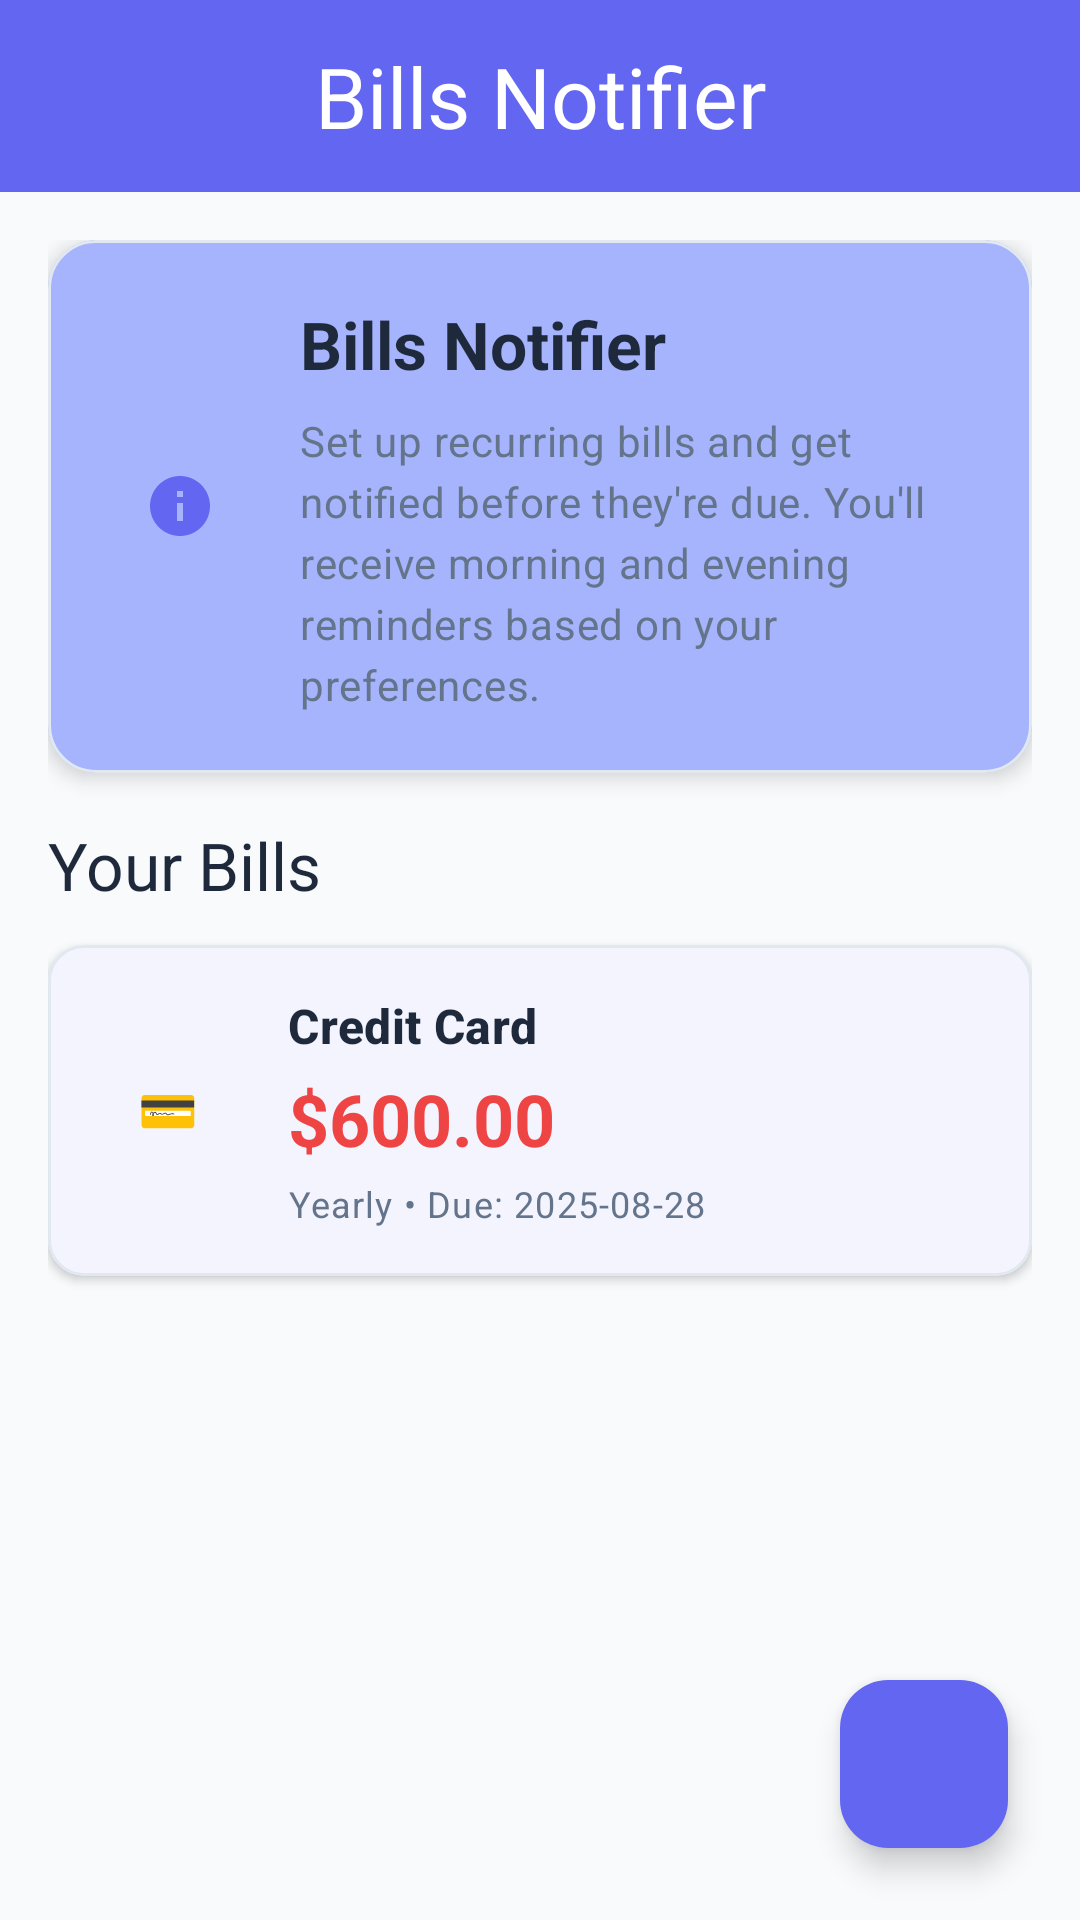

Named icons in this screenshot (1080 × 1920) and their bounding boxes, (x1, y1, x2, y2):
info: (150, 476, 210, 536)
